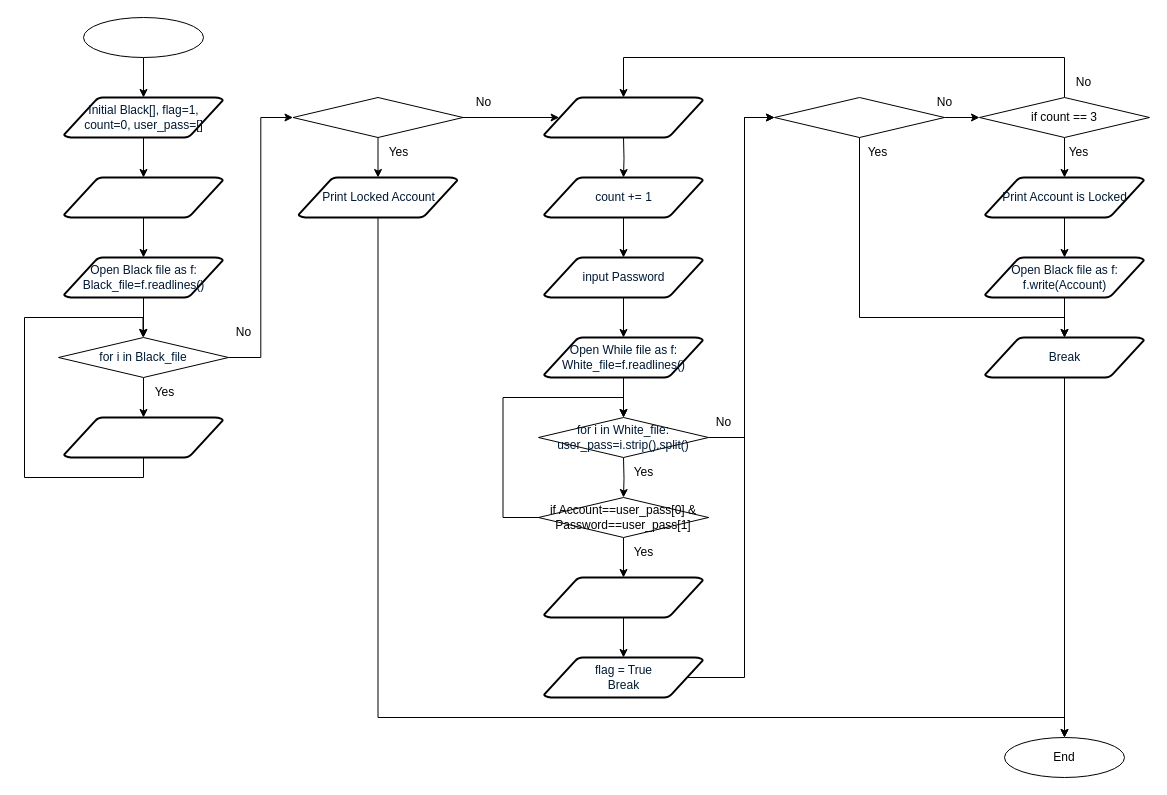
Image size: 1167x795. Some labels were removed from this diagram. The box of each missing label's shape, as (x1, y1, x2, y2) in pixels:
Black[].append(i.strip('\n')): (62, 416, 224, 458)
if flag is True: (774, 96, 944, 138)
if Input Account in Black_file: (292, 96, 463, 138)
Input Account: (62, 176, 224, 218)
Start: (82, 16, 204, 58)
Welcom Account: (542, 576, 704, 618)
While Count<3: (542, 96, 704, 138)
